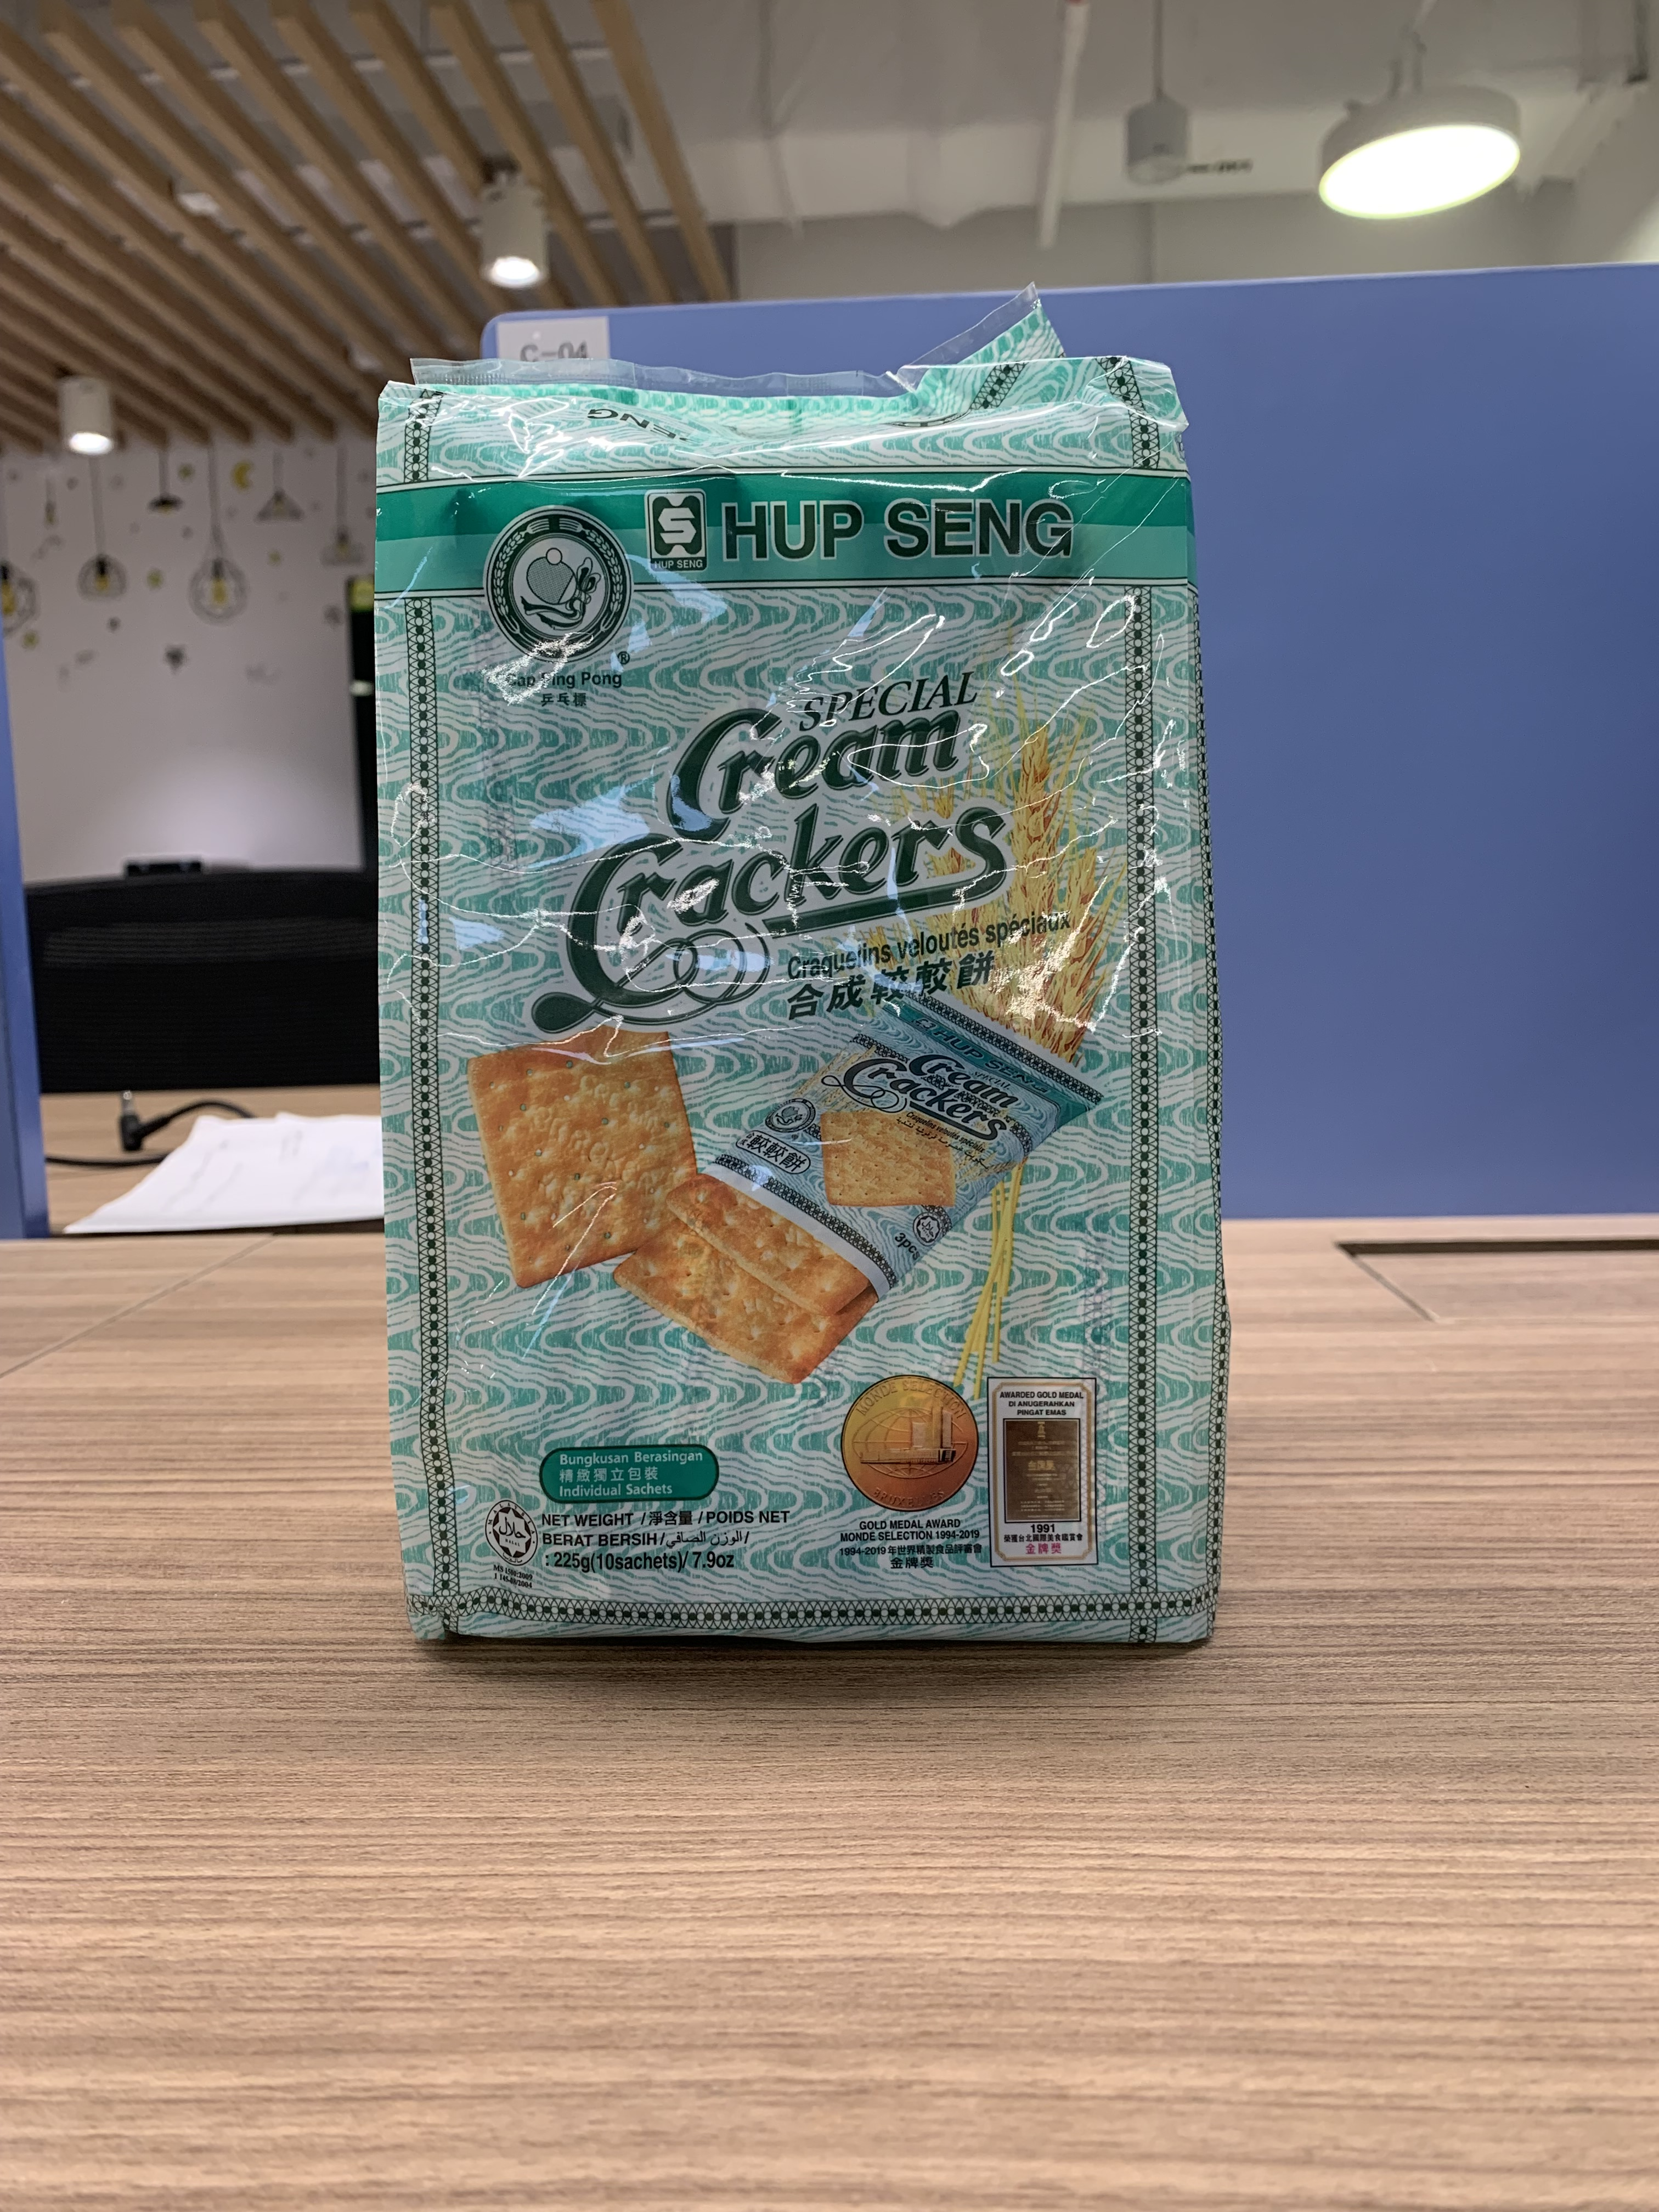halal: (486, 1503, 537, 1561)
